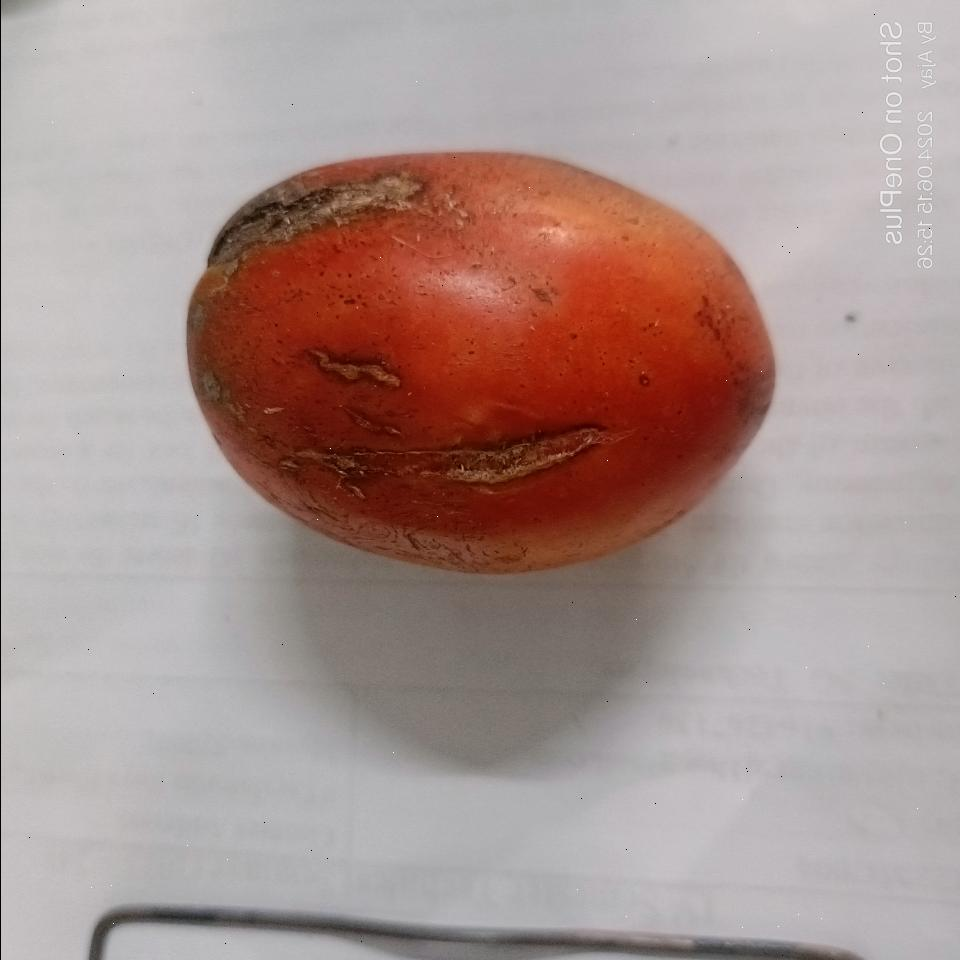Cracking: (192, 151, 434, 277), (255, 412, 617, 490), (287, 344, 410, 401)
